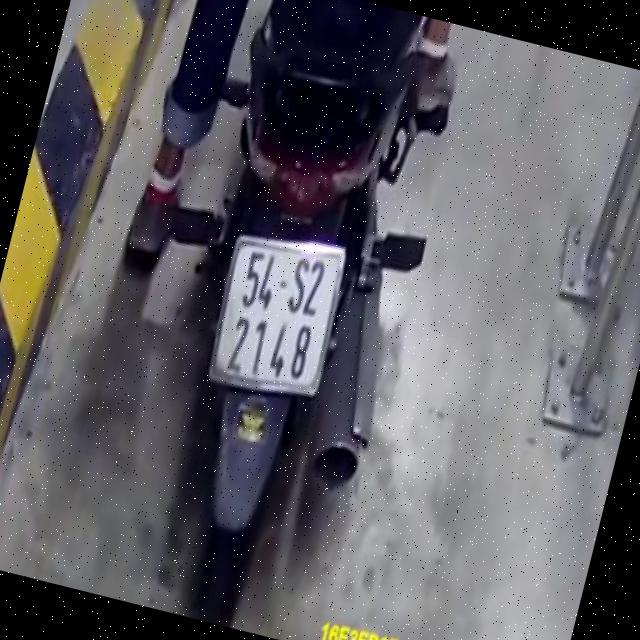license_plate: (202, 234, 350, 400)
